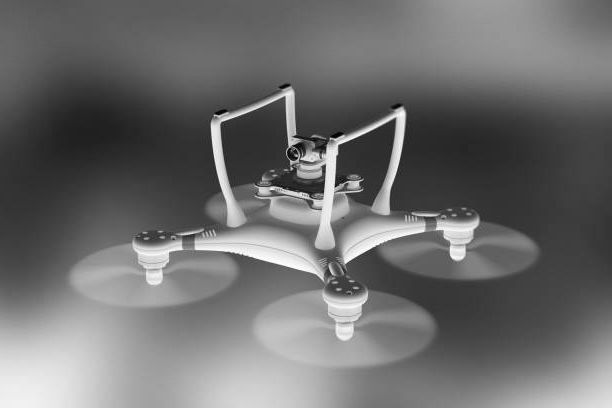Drone: (64, 79, 542, 369)
